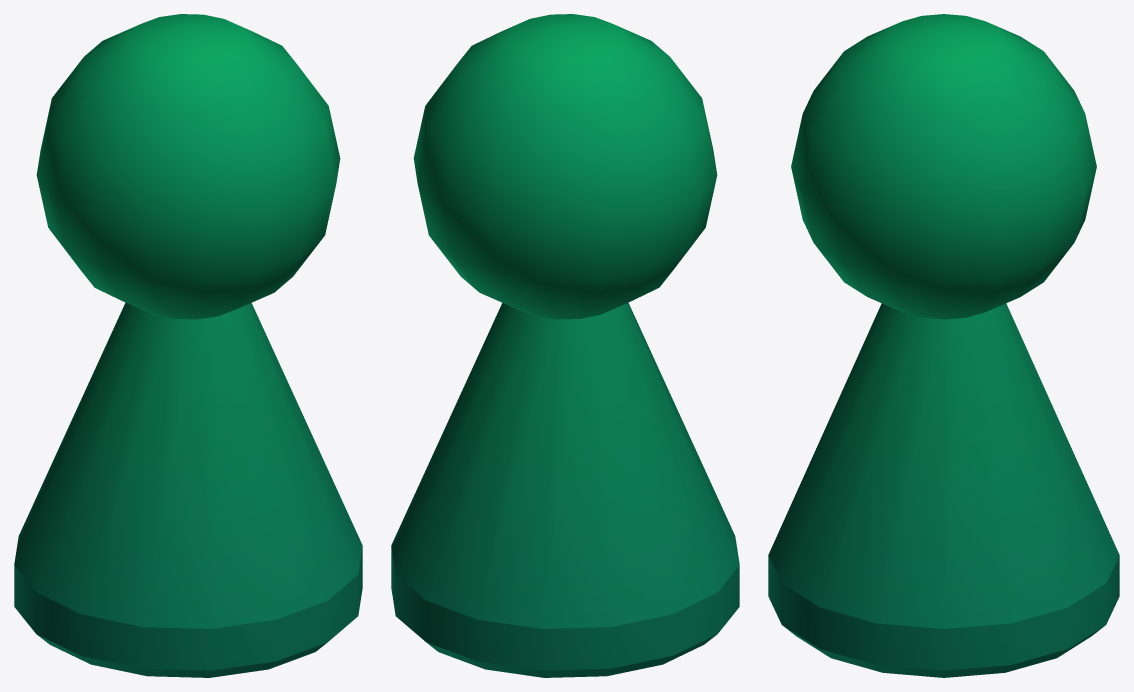
The model's file is pawn-a-green.glb.
The picture shows the model from 3 angles, left to right: view 1: azimuth 30°, elevation 25°; view 2: azimuth 150°, elevation 25°; view 3: azimuth 270°, elevation 25°; orthographic projection.
Parts seen in each view (by area): view 1: pawn_A_green; view 2: pawn_A_green; view 3: pawn_A_green.
Part boxes in pixels (x1,y1,x2,y2): pawn_A_green: (14,14,362,677); pawn_A_green: (391,14,739,677); pawn_A_green: (768,14,1119,677).
Size of the model in its own units: 0.5 by 0.9146 by 0.5.
1 material, 1 textured.
